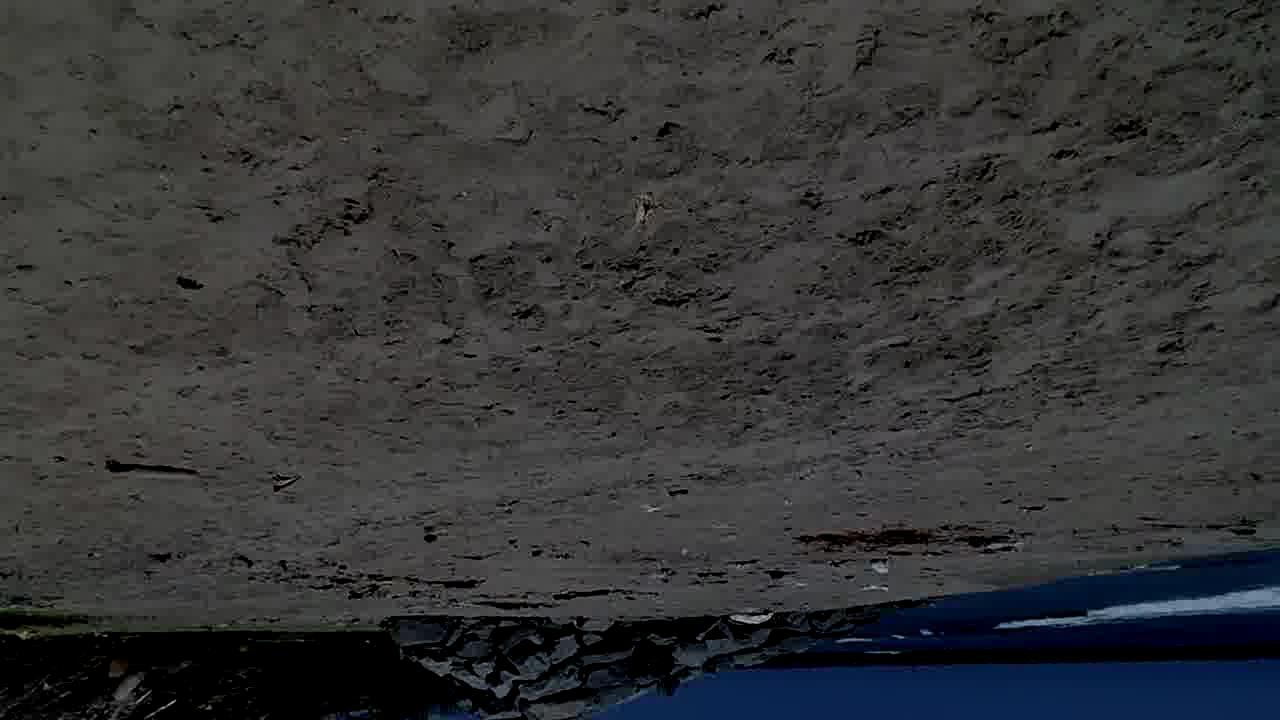obj: (266, 554, 490, 604), (787, 522, 1027, 568), (108, 459, 196, 485), (473, 597, 563, 612), (551, 586, 614, 601), (727, 606, 776, 624), (871, 561, 891, 578)
sand/background: (0, 551, 1280, 719)
